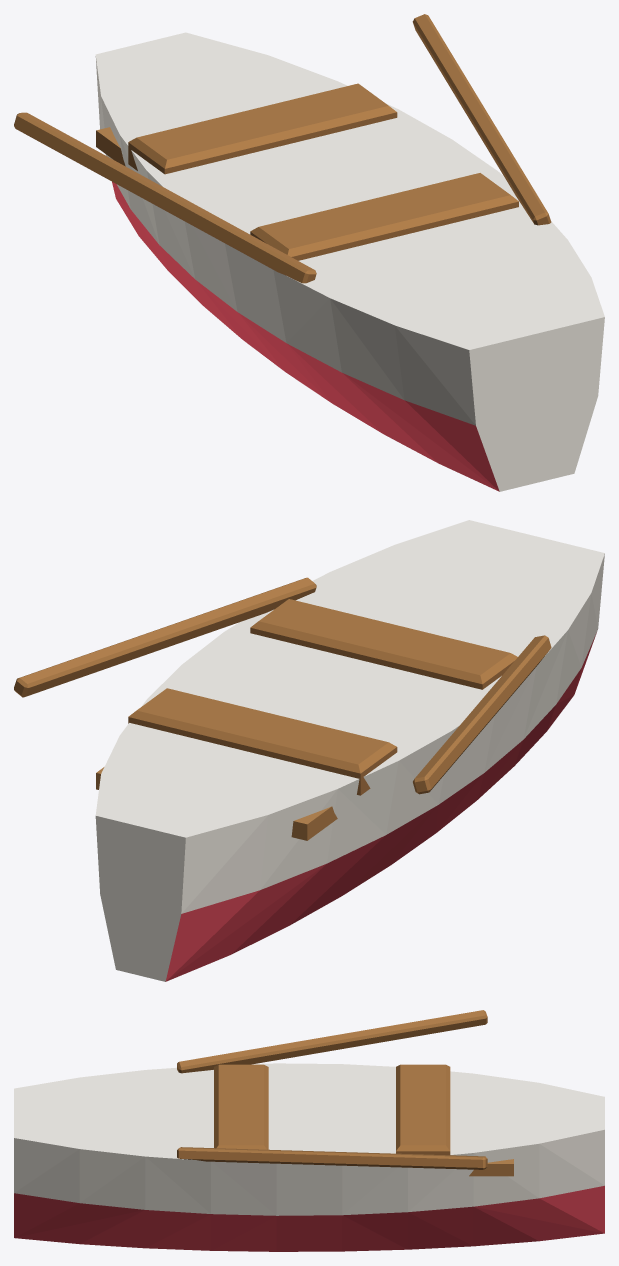
The model's file is Boat_0.glb.
3 renders of one model, top to bottom at view 1: azimuth 30°, elevation 25°; view 2: azimuth 150°, elevation 25°; view 3: azimuth 270°, elevation 25°, orthographic. The views are drawn at different scales.
Parts seen in each view (by area): view 1: Boat_0; view 2: Boat_0; view 3: Boat_0.
Boxes of the visible parts, x1,y1,x2,y2 form: Boat_0: (14, 14, 604, 491); Boat_0: (14, 520, 604, 981); Boat_0: (14, 1010, 604, 1251).
Bounding box in the file's own units: 7.9 × 3.42 × 13.
1 material, 1 textured.
